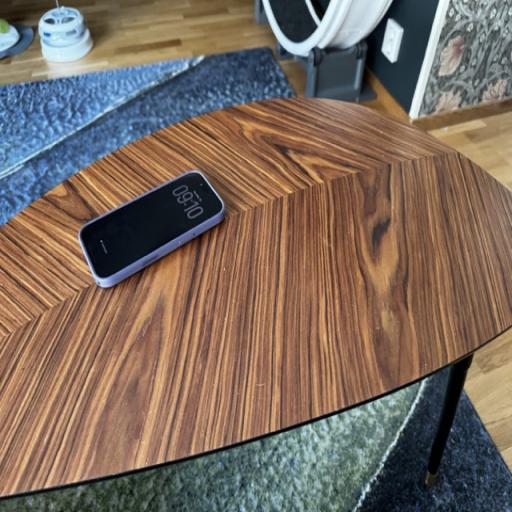phone: (80, 184, 253, 294)
